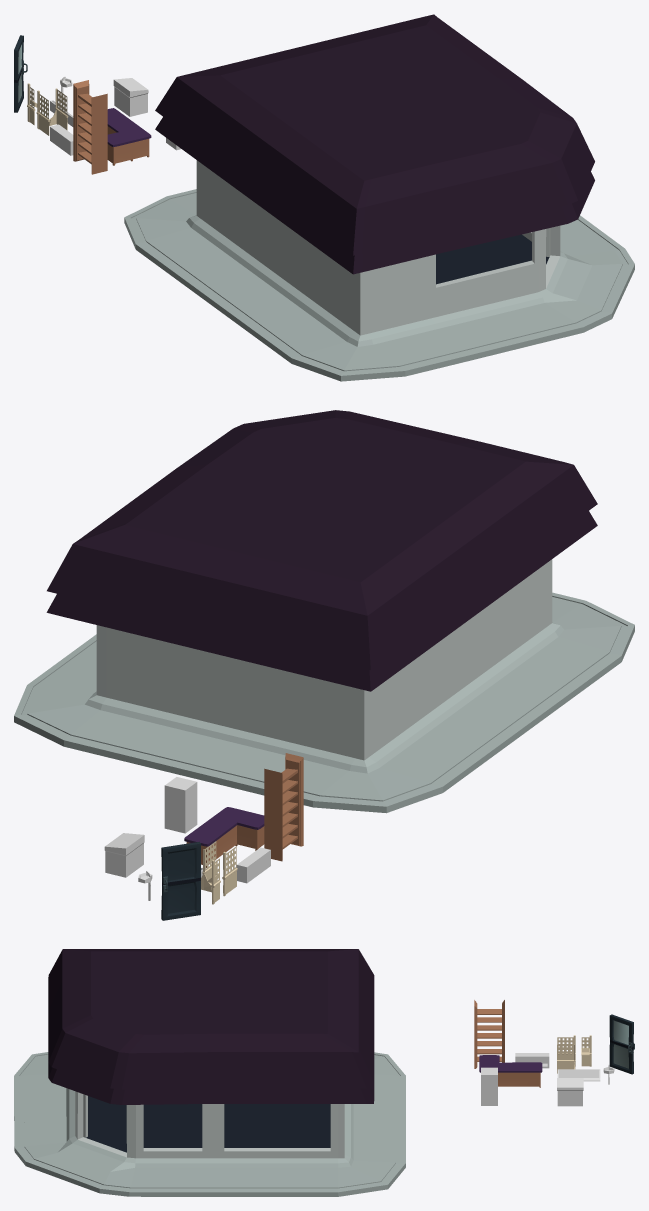
The model's file is MelOMart_GasStation.fbx.
3 renders of one model, top to bottom at view 1: azimuth 30°, elevation 25°; view 2: azimuth 150°, elevation 25°; view 3: azimuth 270°, elevation 25°, orthographic. The views are drawn at different scales.
Parts seen in each view (by area): view 1: melOmart-building-roof-top, melOmart-building-ext, melOmart-building-roof, melOmart-tall-shelf, melOmart-counter1, env_HotDogStand, melOmart-glass-door, melOmart-single-shelf1; view 2: melOmart-building-roof-top, melOmart-building-ext, melOmart-building-roof, melOmart-tall-shelf, melOmart-glass-door, melOmart-counter1, Cube, env_HotDogStand, melOmart-single-shelf1; view 3: melOmart-building-roof-top, melOmart-building-ext, melOmart-building-roof, melOmart-counter1, melOmart-tall-shelf, melOmart-glass-door, env_HotDogStand, Cube, melOmart-wide-shelf, melOmart-product-endcap, melOmart-single-shelf1.
Boxes of the visible parts, <box> form: melOmart-building-roof-top: <box>155,14,594,255</box>; melOmart-building-ext: <box>124,160,634,381</box>; melOmart-building-roof: <box>155,117,594,274</box>; melOmart-tall-shelf: <box>73,80,107,174</box>; melOmart-counter1: <box>107,108,151,165</box>; env_HotDogStand: <box>113,78,148,116</box>; melOmart-glass-door: <box>14,35,27,112</box>; melOmart-single-shelf1: <box>50,124,73,155</box>; melOmart-building-roof-top: <box>47,410,597,670</box>; melOmart-building-ext: <box>14,559,634,813</box>; melOmart-building-roof: <box>46,511,597,691</box>; melOmart-tall-shelf: <box>264,753,303,861</box>; melOmart-glass-door: <box>161,841,200,920</box>; melOmart-counter1: <box>184,807,264,867</box>; Cube: <box>164,777,197,833</box>; env_HotDogStand: <box>104,833,144,877</box>; melOmart-single-shelf1: <box>236,847,270,883</box>; melOmart-building-roof-top: <box>48,949,374,1089</box>; melOmart-building-ext: <box>14,1052,405,1196</box>; melOmart-building-roof: <box>48,1063,374,1104</box>; melOmart-counter1: <box>479,1055,542,1087</box>; melOmart-tall-shelf: <box>474,1000,504,1068</box>; melOmart-glass-door: <box>609,1014,634,1074</box>; env_HotDogStand: <box>557,1078,583,1106</box>; Cube: <box>481,1067,497,1105</box>; melOmart-wide-shelf: <box>557,1069,600,1081</box>; melOmart-product-endcap: <box>557,1044,575,1073</box>; melOmart-single-shelf1: <box>515,1053,549,1068</box>.
Size of the model in its own units: 1010 by 426 by 1821.
